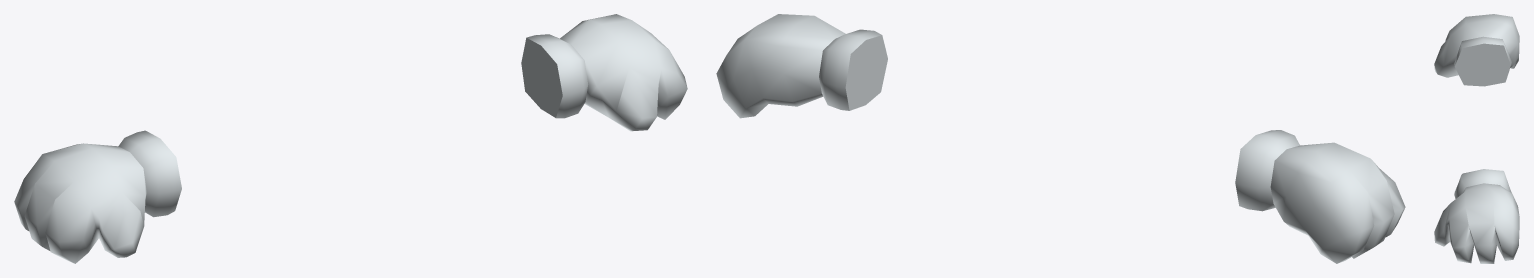
The model's file is Glove_2.fbx.
3 renders of one model, left to right at view 1: azimuth 30°, elevation 25°; view 2: azimuth 150°, elevation 25°; view 3: azimuth 270°, elevation 25°, orthographic. The views are drawn at different scales.
Parts seen in each view (by area): view 1: Glove_2; view 2: Glove_2; view 3: Glove_2.
Boxes of the visible parts, <box> form: Glove_2: <box>14,14,687,263</box>; Glove_2: <box>716,14,1405,263</box>; Glove_2: <box>1434,14,1519,263</box>.
Size of the model in its own units: 140 by 19.41 by 23.93.
